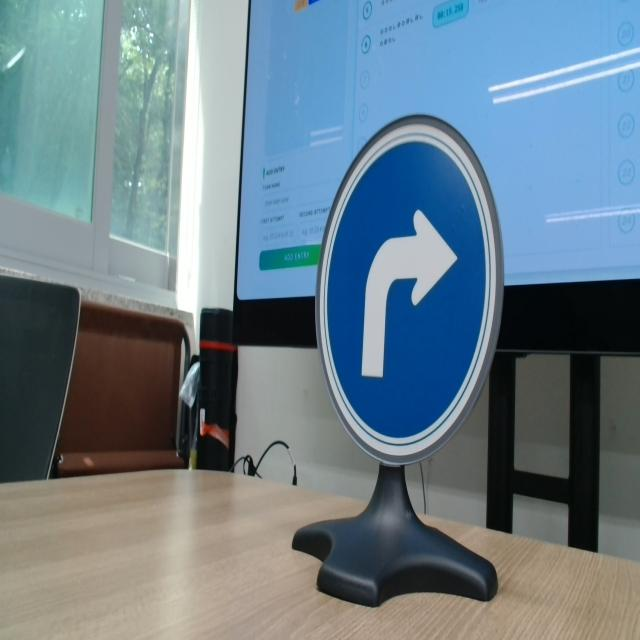right_dierection: (298, 93, 505, 477)
